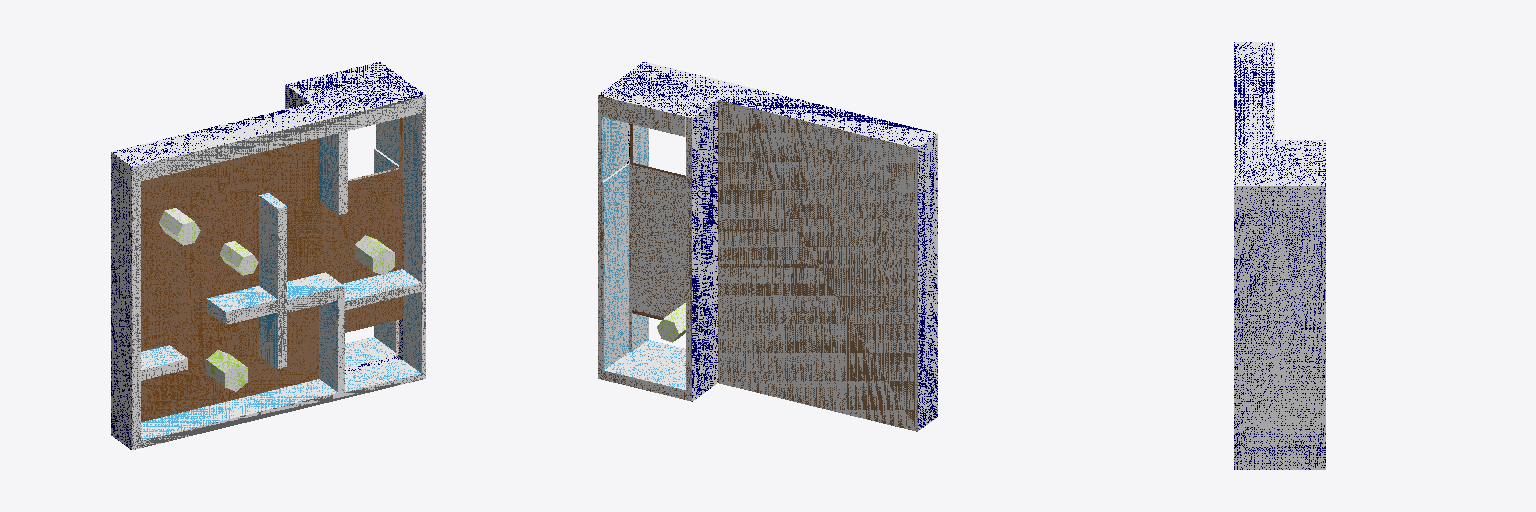
Rendered from cubicles_env_blender.obj.
The picture shows the model from 3 angles: view 1: azimuth 30°, elevation 25°; view 2: azimuth 150°, elevation 25°; view 3: azimuth 270°, elevation 25°; orthographic projection.
Visible parts, largest first — view 1: instance_0.007_ID57, instance_0.006_ID51, instance_0.005_ID43, instance_0.004_ID35.001, instance_0.017_ID121, instance_0.009_ID73, instance_0.012_ID91, instance_0.014_ID103, instance_0.015_ID109, instance_0.008_ID65.001, instance_0.013_ID97, instance_0.001_ID13; view 2: instance_0.011_ID85, instance_0.004_ID35.001, instance_0.002_ID21.001, instance_0.009_ID73, instance_0_ID3.001, instance_0.001_ID13, instance_0.017_ID121, instance_0.010_ID79, instance_0.006_ID51; view 3: instance_0.004_ID35.001.
Part boxes in pixels (left/top/right/bottom): instance_0.007_ID57: left=141, top=118, right=402, bottom=421; instance_0.006_ID51: left=141, top=113, right=421, bottom=440; instance_0.005_ID43: left=132, top=95, right=425, bottom=449; instance_0.004_ID35.001: left=111, top=62, right=424, bottom=449; instance_0.017_ID121: left=345, top=292, right=421, bottom=391; instance_0.009_ID73: left=345, top=149, right=398, bottom=367; instance_0.012_ID91: left=345, top=296, right=402, bottom=332; instance_0.014_ID103: left=206, top=350, right=247, bottom=391; instance_0.015_ID109: left=355, top=235, right=394, bottom=275; instance_0.008_ID65.001: left=159, top=208, right=200, bottom=245; instance_0.013_ID97: left=220, top=241, right=258, bottom=275; instance_0.001_ID13: left=376, top=119, right=398, bottom=164; instance_0.011_ID85: left=718, top=100, right=917, bottom=431; instance_0.004_ID35.001: left=599, top=62, right=937, bottom=430; instance_0.002_ID21.001: left=629, top=164, right=685, bottom=365; instance_0.009_ID73: left=604, top=165, right=685, bottom=389; instance_0_ID3.001: left=598, top=95, right=691, bottom=401; instance_0.001_ID13: left=602, top=117, right=626, bottom=181; instance_0.017_ID121: left=632, top=313, right=685, bottom=364; instance_0.010_ID79: left=657, top=303, right=685, bottom=342; instance_0.006_ID51: left=633, top=124, right=648, bottom=166; instance_0.004_ID35.001: left=1234, top=42, right=1325, bottom=469.
Size of the model in its own units: 828 by 762 by 225.